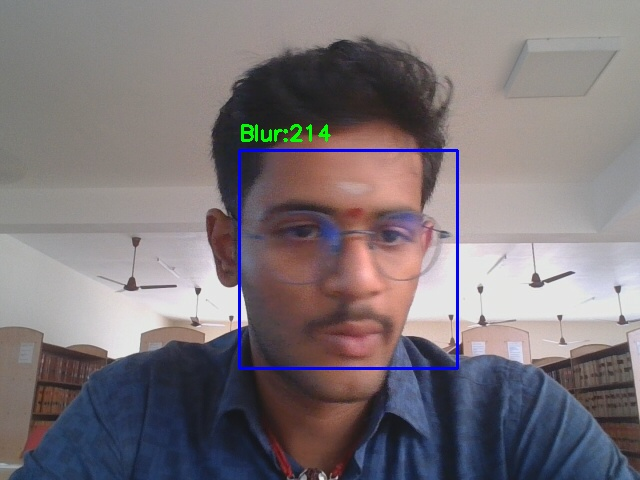real: (239, 150, 457, 368)
